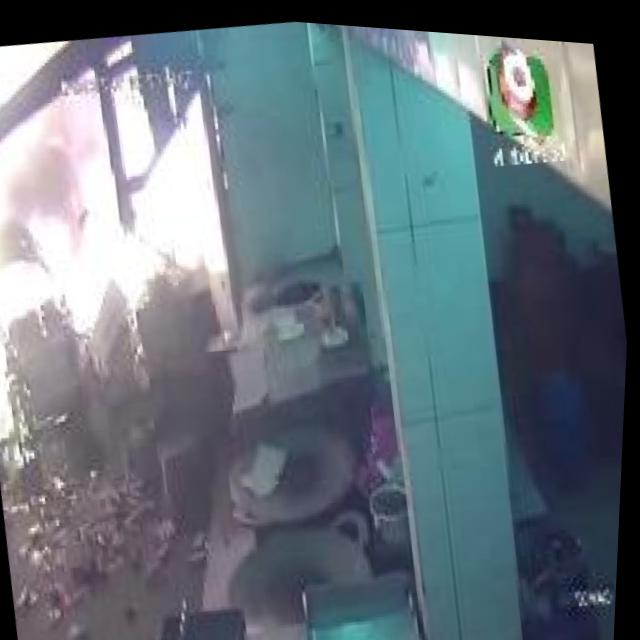fire: (15, 73, 246, 368), (0, 40, 120, 459)
